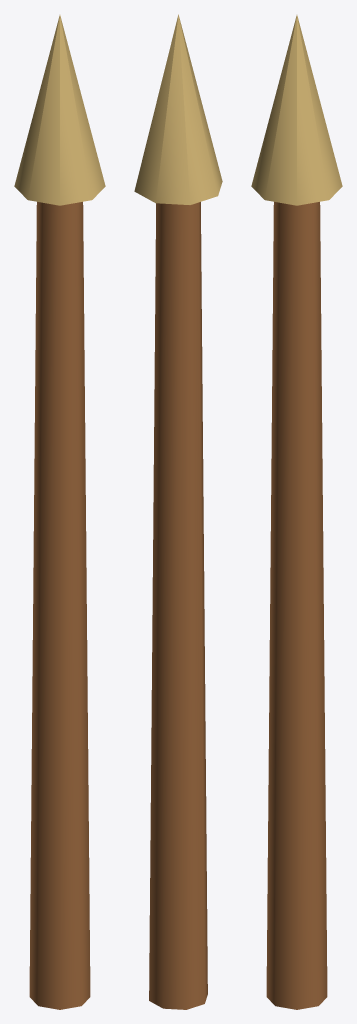
Rendered from outil_pinceau.glb.
3 renders of one model, left to right at view 1: azimuth 90°, elevation 25°; view 2: azimuth 150°, elevation 25°; view 3: azimuth 270°, elevation 25°, orthographic.
Size of the model in its own units: 0.024 by 0.285 by 0.024.
